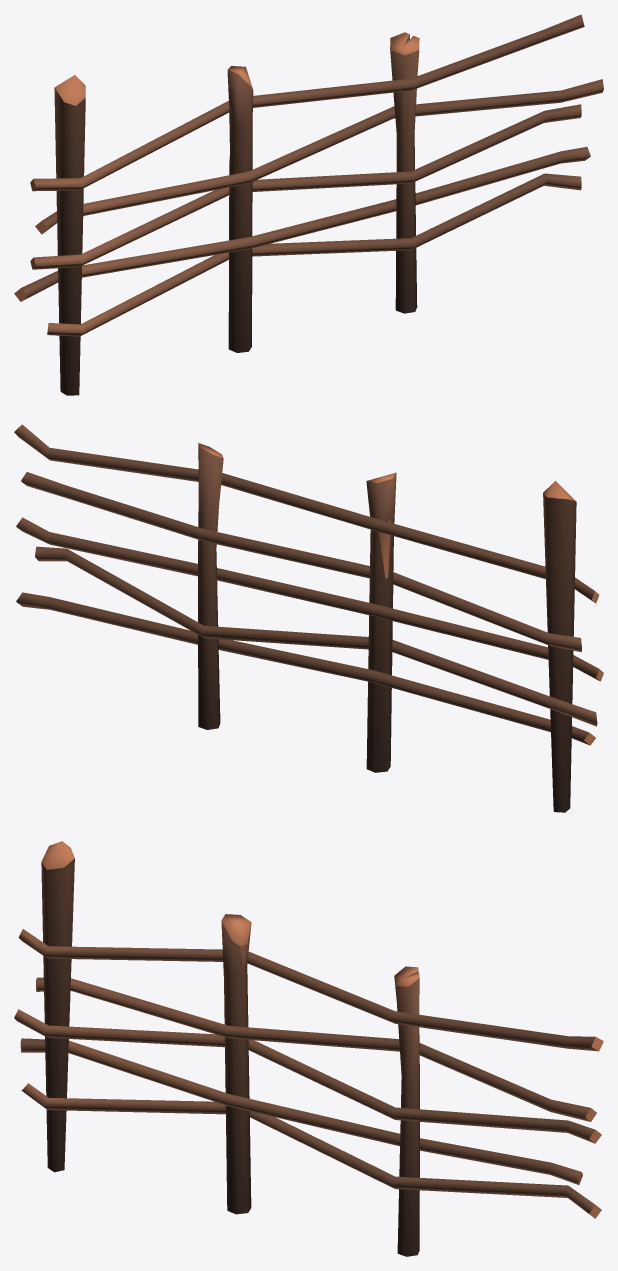
The model's file is Fence_3B_Part_1.fbx.
The picture shows the model from 3 angles, top to bottom: view 1: azimuth 30°, elevation 25°; view 2: azimuth 150°, elevation 25°; view 3: azimuth 330°, elevation 25°; orthographic projection. The views are drawn at different scales.
Parts seen in each view (by area): view 1: Fence_3B_Part_1; view 2: Fence_3B_Part_1; view 3: Fence_3B_Part_1.
Boxes of the visible parts, box(x1,y1,x2,y2) form: Fence_3B_Part_1: box(14, 14, 603, 395); Fence_3B_Part_1: box(14, 424, 603, 812); Fence_3B_Part_1: box(14, 841, 603, 1256).
Size of the model in its own units: 236 by 125 by 18.71.
